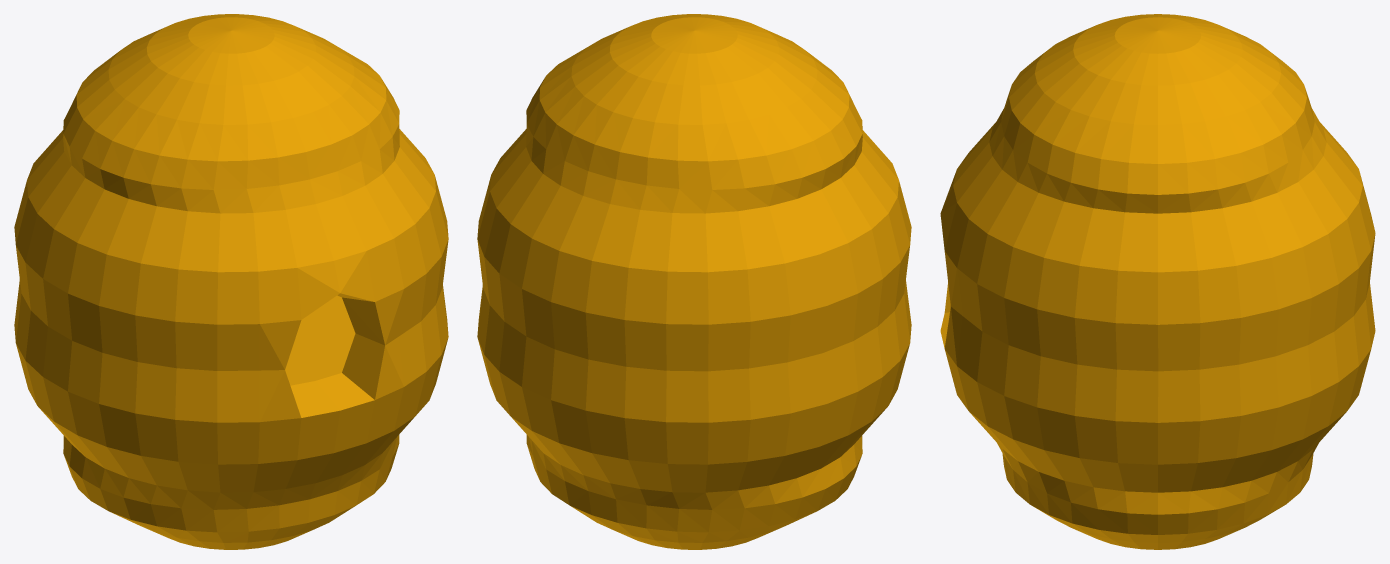
The model's file is hive.fbx.
3 views of the same model, side by side, from view 1: azimuth 30°, elevation 25°; view 2: azimuth 150°, elevation 25°; view 3: azimuth 270°, elevation 25° (orthographic).
Parts seen in each view (by area): view 1: Sphere; view 2: Sphere; view 3: Sphere.
Part boxes in pixels (x1,y1,x2,y2): Sphere: (14,14,448,549); Sphere: (477,14,911,549); Sphere: (940,14,1375,549).
Size of the model in its own units: 20.4 by 26 by 20.4.
